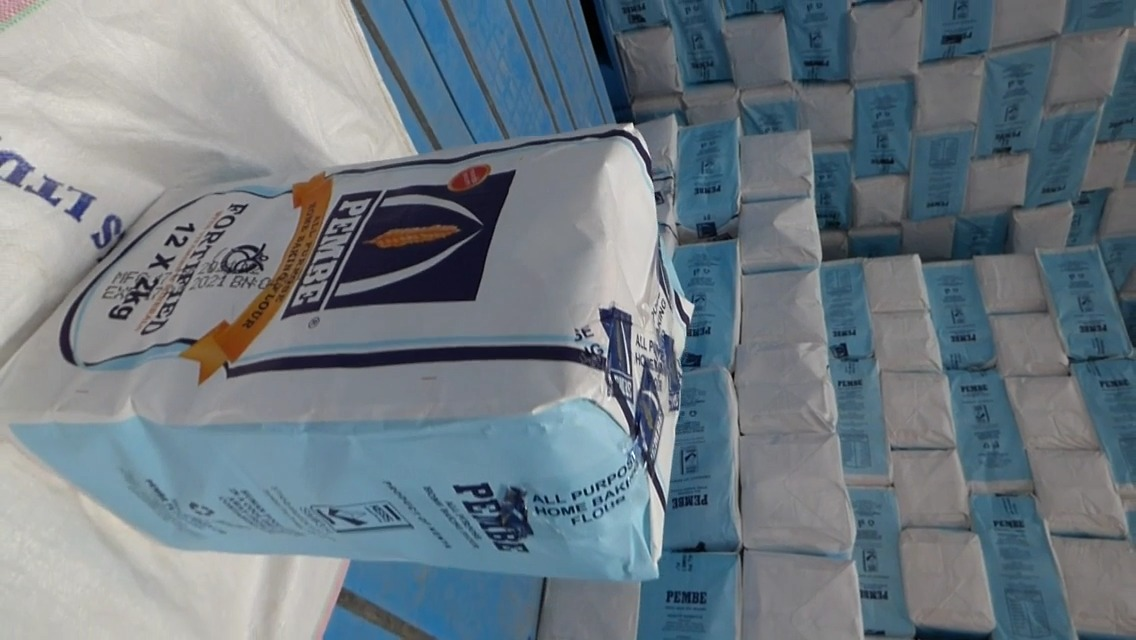wheat_flour_blue_label: (4, 127, 679, 577)
